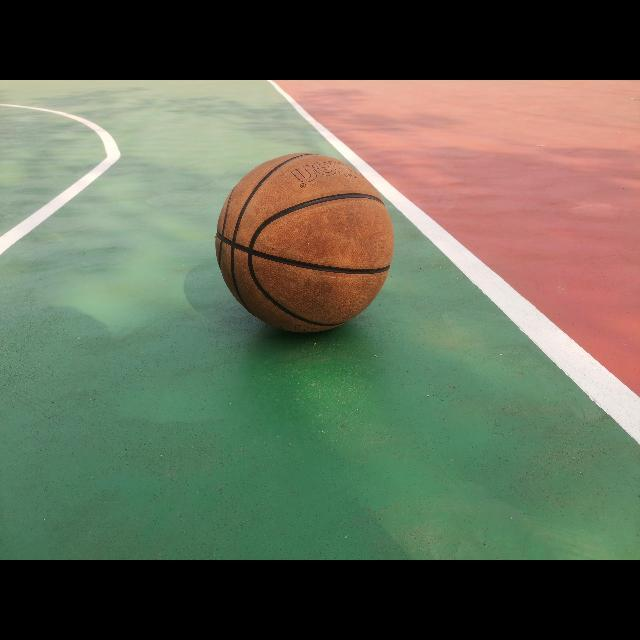basketball: (216, 152, 394, 334)
